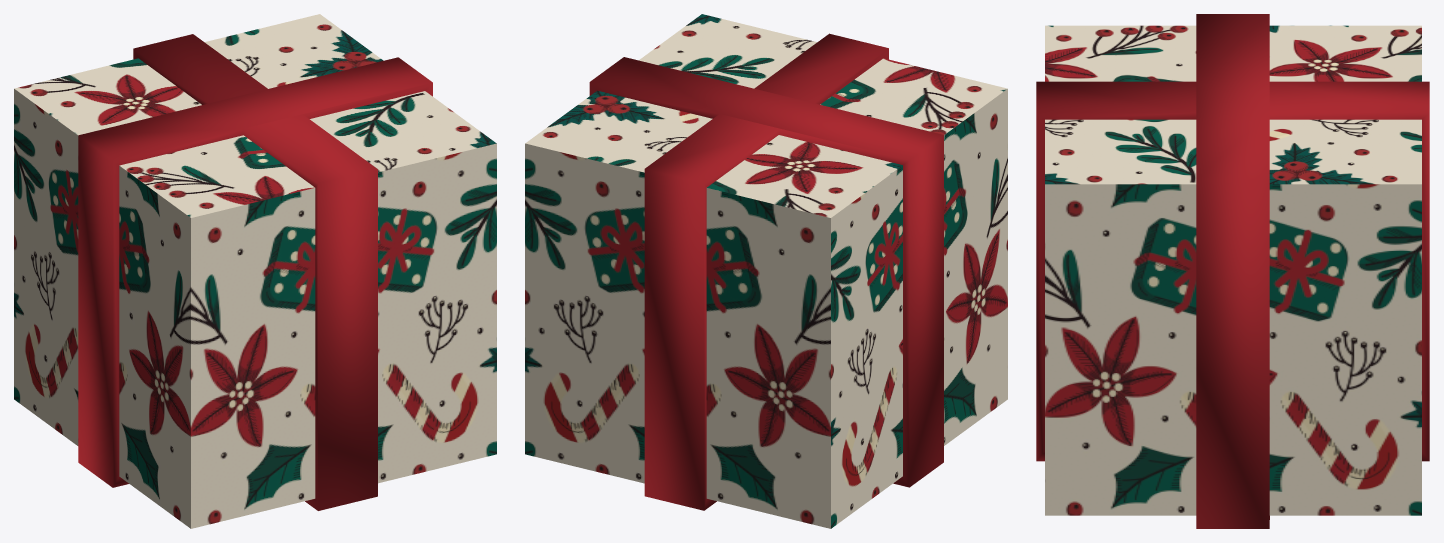
File: giftSmallWhite.glb
3 views of the same model, side by side, from view 1: azimuth 30°, elevation 25°; view 2: azimuth 150°, elevation 25°; view 3: azimuth 270°, elevation 25° (orthographic). The views are drawn at different scales.
Visible parts, largest first — view 1: GiftSmallWhite1; view 2: GiftSmallWhite1; view 3: GiftSmallWhite1.
Part boxes in pixels (box(x1,y1,x2,y2)): GiftSmallWhite1: box(14, 14, 496, 528); GiftSmallWhite1: box(525, 14, 1007, 528); GiftSmallWhite1: box(1036, 14, 1429, 528).
Size of what is drawn, in the model's own units: 0.6371 by 0.6227 by 0.6371.
Materials: 1 (1 with a texture image).
